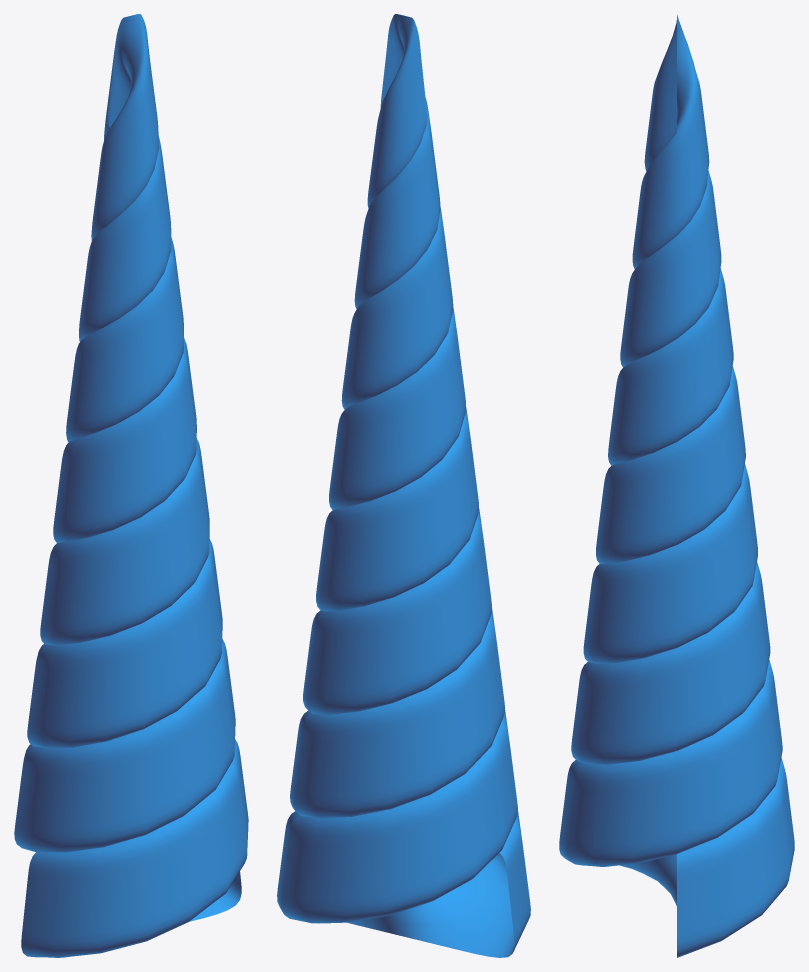
File: horn.fbx
The picture shows the model from 3 angles, left to right: view 1: azimuth 30°, elevation 25°; view 2: azimuth 150°, elevation 25°; view 3: azimuth 270°, elevation 25°; orthographic projection. The views are drawn at different scales.
Parts seen in each view (by area): view 1: horn; view 2: horn; view 3: horn.
Part boxes in pixels (box(x1,y1,x2,y2)): horn: box(14, 14, 248, 957); horn: box(277, 14, 530, 957); horn: box(559, 15, 794, 957).
Bounding box in the file's own units: 65.56 × 262 × 62.39.
